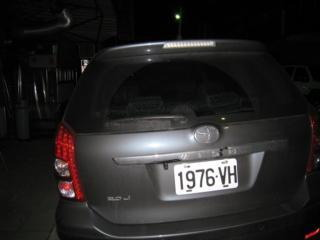plate: (169, 158, 241, 196)
